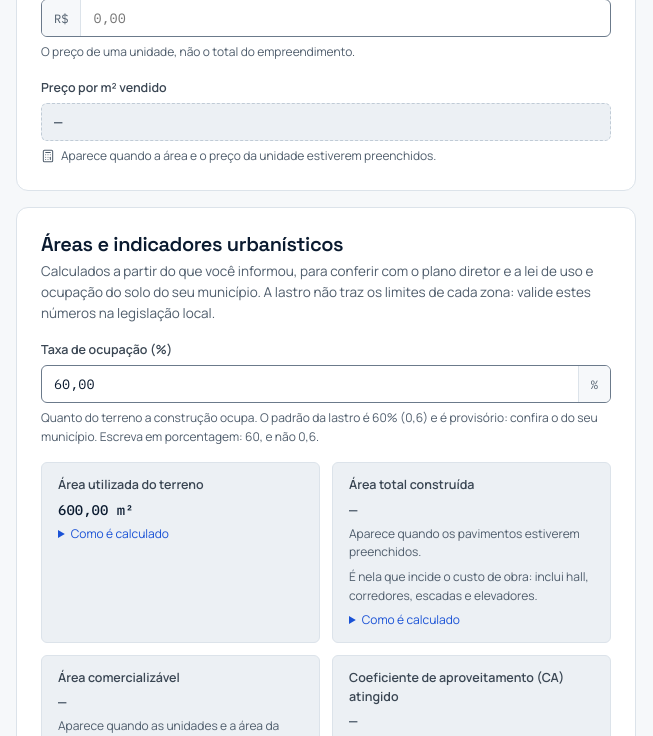
Test case: Produto › com a Etapa 1 válida › áreas e indicadores urbanísticos (F11) › texto ilegível na taxa é acusado como formato, não como campo vazio
The width and height of the screenshot is (653, 736).
(page scrolled)
Replace the text in the field labelled "Taxa de ocupação (%)" with "sessenta" at (310, 384), box [42, 366, 578, 402]
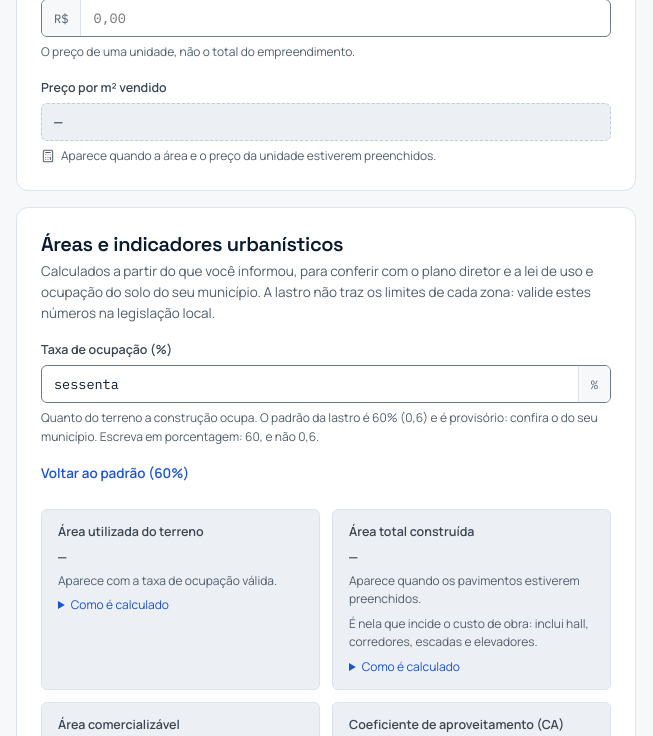
Leave the field labelled "Taxa de ocupação (%)", box [42, 366, 578, 402]
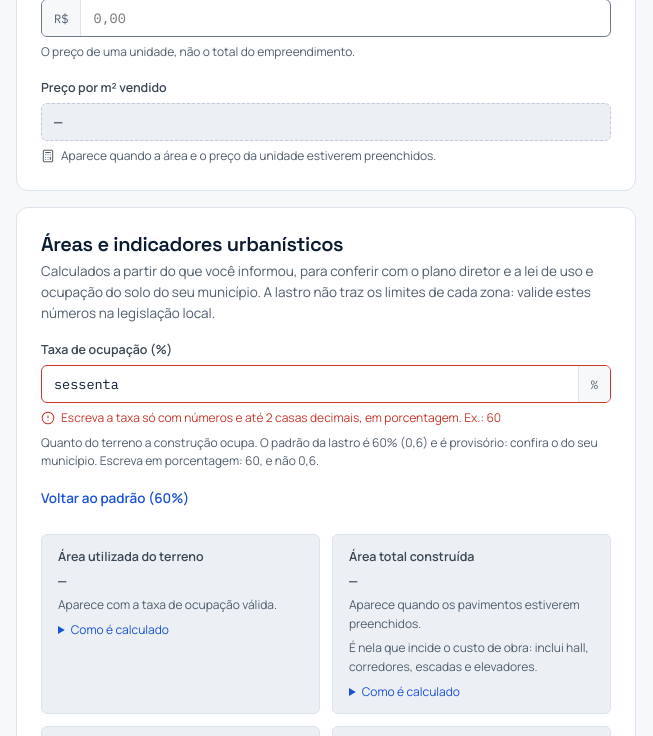
Check: the text "Escreva a taxa só com números e até 2 casas decimais, em porcentagem. Ex.: 60" is shown, box [41, 409, 501, 426]
